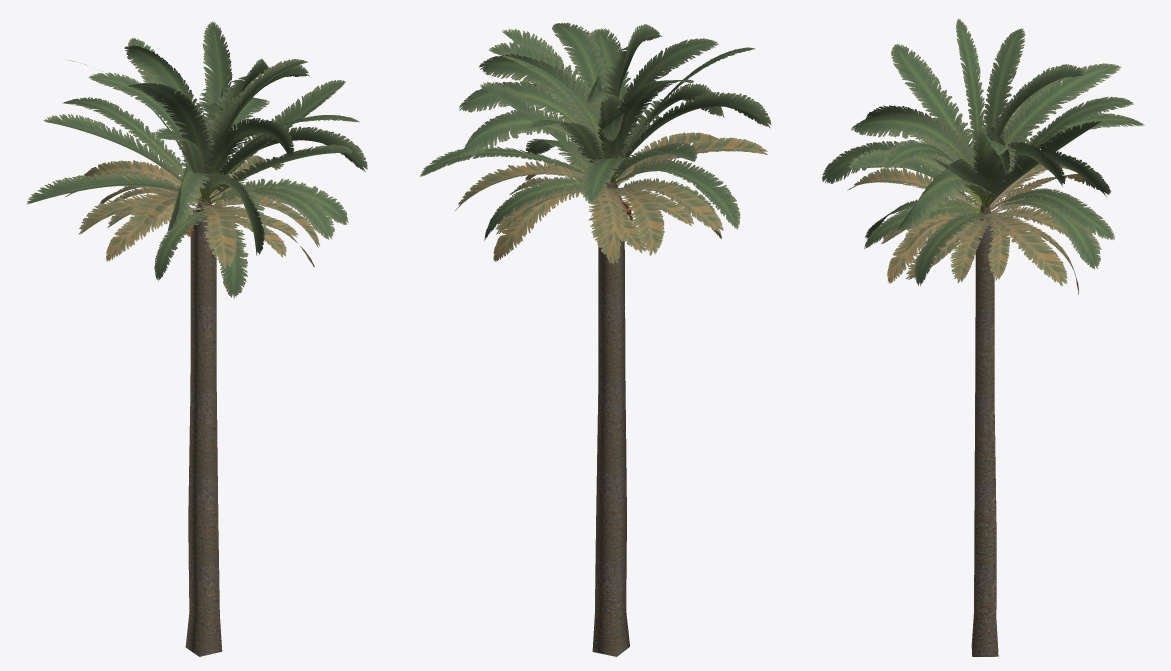
Rendered from PhoenixDactylifera.glb.
The picture shows the model from 3 angles, left to right: view 1: azimuth 30°, elevation 25°; view 2: azimuth 150°, elevation 25°; view 3: azimuth 270°, elevation 25°; orthographic projection. The views are drawn at different scales.
Parts seen in each view (by area): view 1: Date_Palm__Realistic_LOD3; view 2: Date_Palm__Realistic_LOD3; view 3: Date_Palm__Realistic_LOD3.
Boxes of the visible parts, x1=… form: Date_Palm__Realistic_LOD3: x1=26, y1=21, x2=367, y2=656; Date_Palm__Realistic_LOD3: x1=420, y1=22, x2=771, y2=656; Date_Palm__Realistic_LOD3: x1=822, y1=18, x2=1144, y2=656.
Bounding box in the file's own units: 11.2 × 21.89 × 11.58.
Materials: 1 (1 with a texture image).
